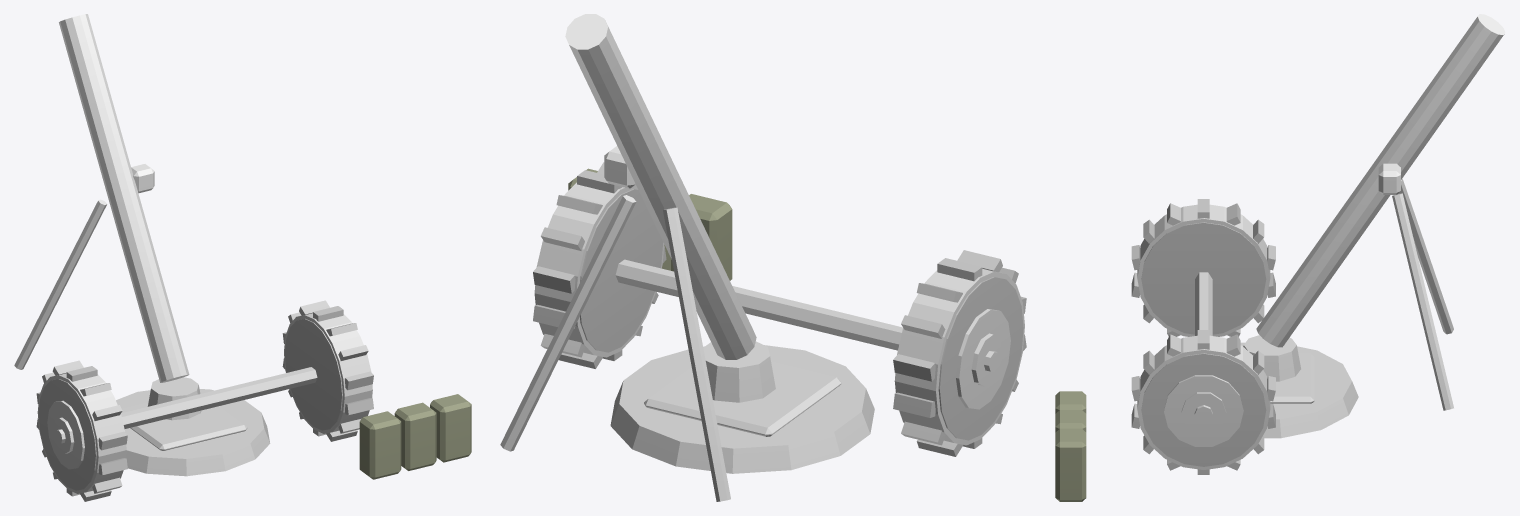
File: hmortar_blue.glb
The picture shows the model from 3 angles, left to right: view 1: azimuth 30°, elevation 25°; view 2: azimuth 150°, elevation 25°; view 3: azimuth 270°, elevation 25°; orthographic projection. The views are drawn at different scales.
Parts seen in each view (by area): view 1: barrel, hull, wheel_0, wheel_1, body, turret; view 2: barrel, body, wheel_0, wheel_1, hull, turret; view 3: barrel, wheel_1, wheel_0, body, hull, turret.
Part boxes in pixels (left/top/right/bottom): barrel: left=14, top=14, right=189, bottom=382; hull: left=121, top=367, right=471, bottom=479; wheel_0: left=36, top=360, right=127, bottom=501; wheel_1: left=282, top=300, right=373, bottom=441; body: left=116, top=389, right=270, bottom=476; turret: left=147, top=377, right=201, bottom=420; barrel: left=500, top=14, right=756, bottom=501; body: left=610, top=345, right=874, bottom=473; wheel_0: left=893, top=250, right=1026, bottom=456; wheel_1: left=533, top=162, right=666, bottom=368; hull: left=568, top=168, right=902, bottom=350; turret: left=703, top=341, right=775, bottom=402; barrel: left=1256, top=14, right=1505, bottom=410; wheel_1: left=1131, top=330, right=1275, bottom=474; wheel_0: left=1131, top=199, right=1275, bottom=336; body: left=1240, top=342, right=1358, bottom=438; hull: left=1055, top=272, right=1212, bottom=501; turret: left=1243, top=335, right=1300, bottom=381.
Bounding box in the file's own units: 1.97 × 1.92 × 2.03.
